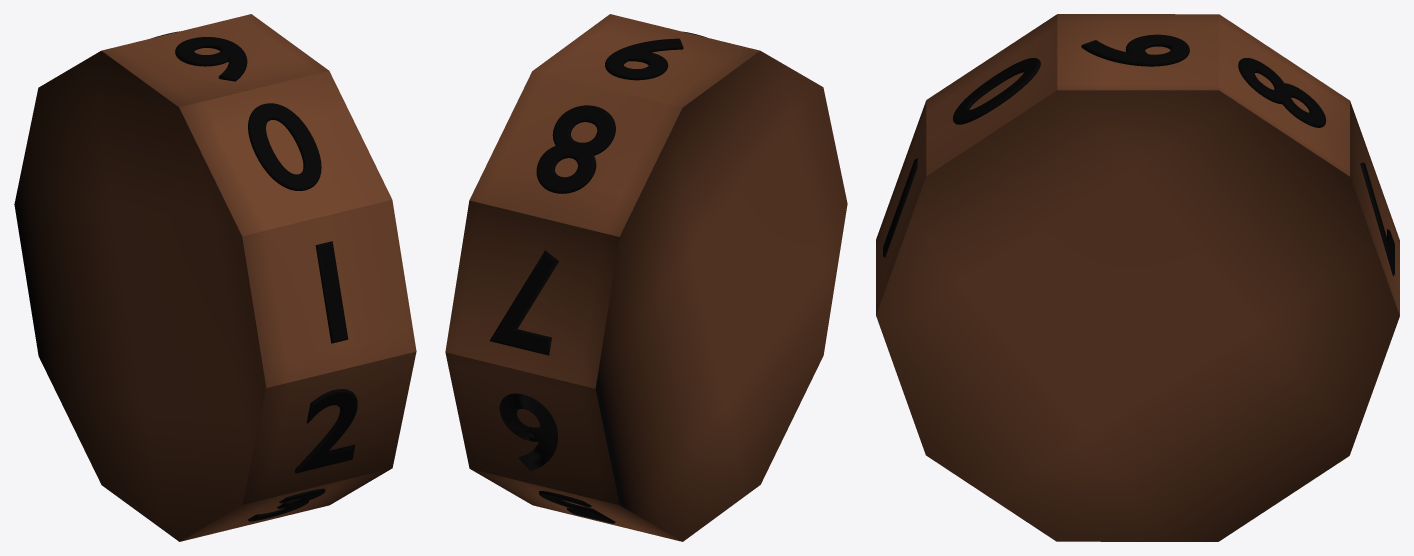
The model's file is Chest_Combo_Mid.fbx.
3 renders of one model, left to right at view 1: azimuth 30°, elevation 25°; view 2: azimuth 150°, elevation 25°; view 3: azimuth 270°, elevation 25°, orthographic. The views are drawn at different scales.
Parts seen in each view (by area): view 1: Combination Lock.002; view 2: Combination Lock.002; view 3: Combination Lock.002.
Part boxes in pixels (x1=…): Combination Lock.002: x1=14, y1=14, x2=416, y2=541; Combination Lock.002: x1=445, y1=14, x2=847, y2=541; Combination Lock.002: x1=876, y1=14, x2=1399, y2=541.
Size of the model in its own units: 2.99 by 8.41 by 8.67.
2 materials, 1 textured.
